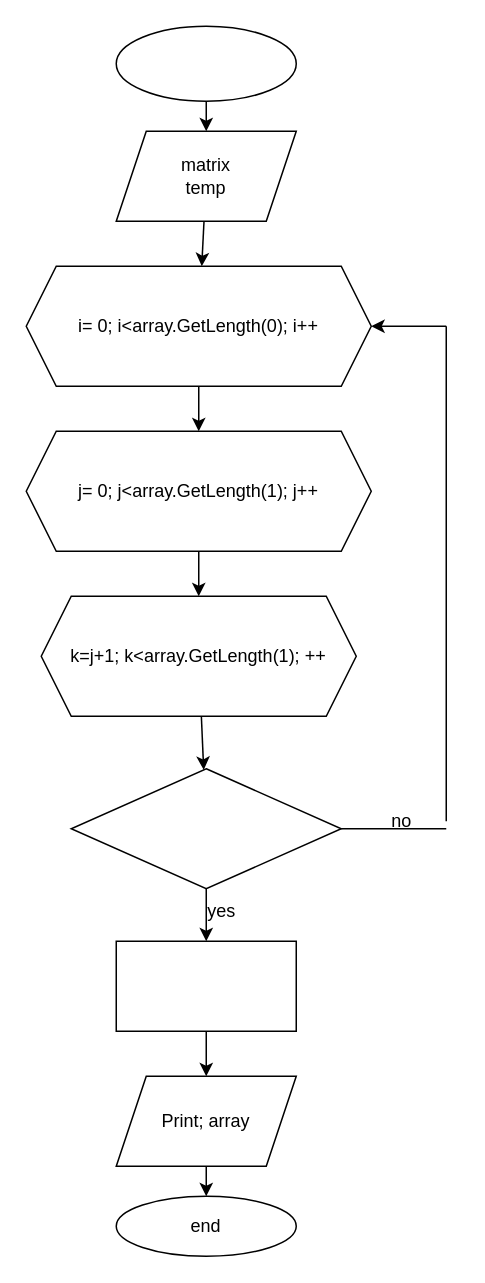
The diagram is 485 pixels wide and 1283 high, and some of its shapes have lost their labels. The box of each missing label's shape, as (x1, y1, x2, y2) in pixels:
array[i,j] < array[i,k]: (70, 767, 341, 889)
start: (115, 25, 296, 101)
temp=array[i,j] array[i,j]=array[i.k] array[i,k]=temp: (115, 940, 296, 1031)
